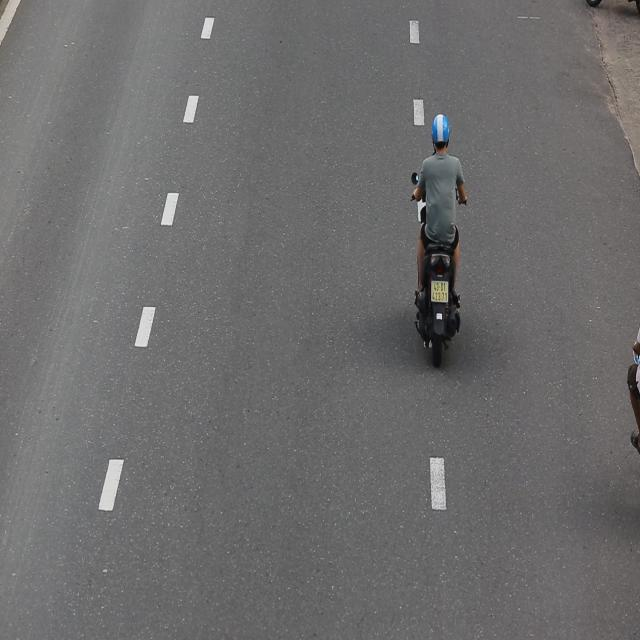motorbike: (399, 94, 472, 380)
